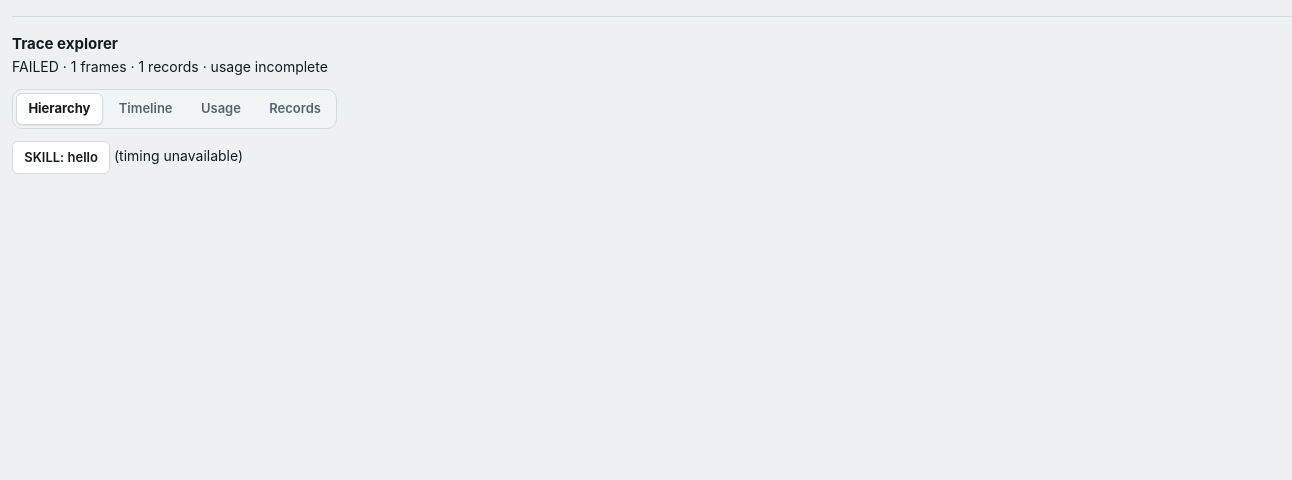
artifact expiration during a range clears stale content and reports the precise error
The image size is (1292, 480).
Expected: the text "FAILED · 1 frames · 1 records · usage incomplete" is shown, [12,58,328,74]
Click the tab "Records" at (295, 109), box [257,93,333,125]
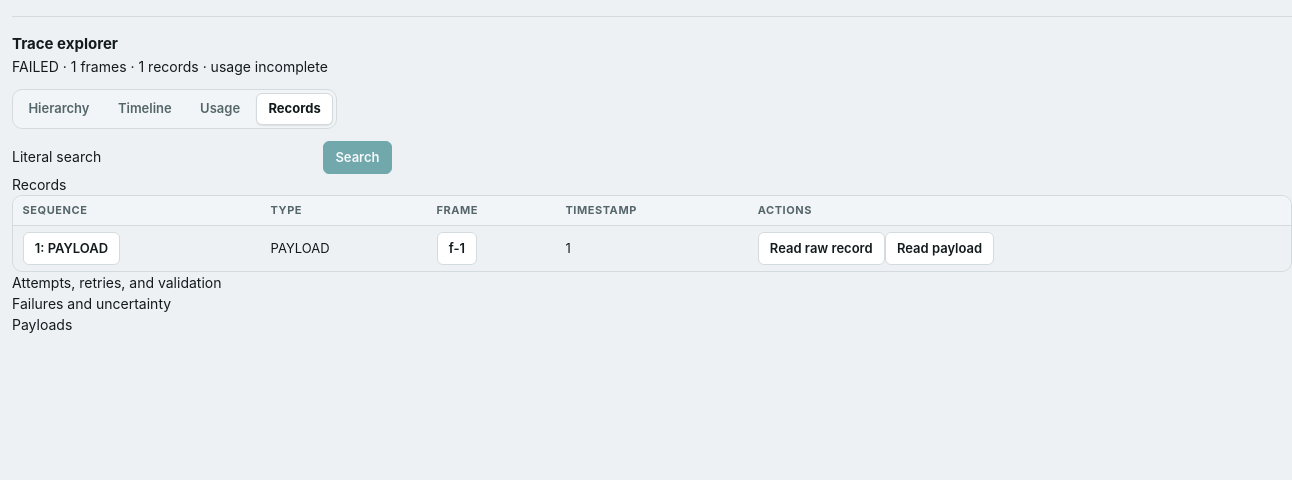
Now the button "1: PAYLOAD" is shown, box [23,232,120,264]
Click the button "Read payload" at (940, 248), box [885,232,994,264]
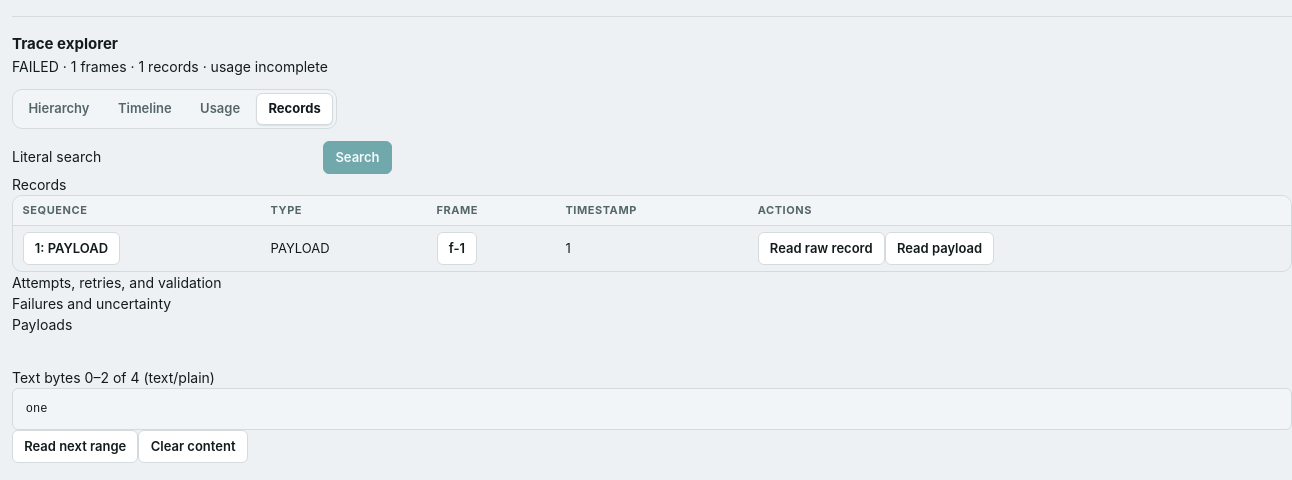
Now the text "one" is shown, box [12,388,1291,430]
Click the button "Read next range" at (75, 446), box [12,430,138,463]
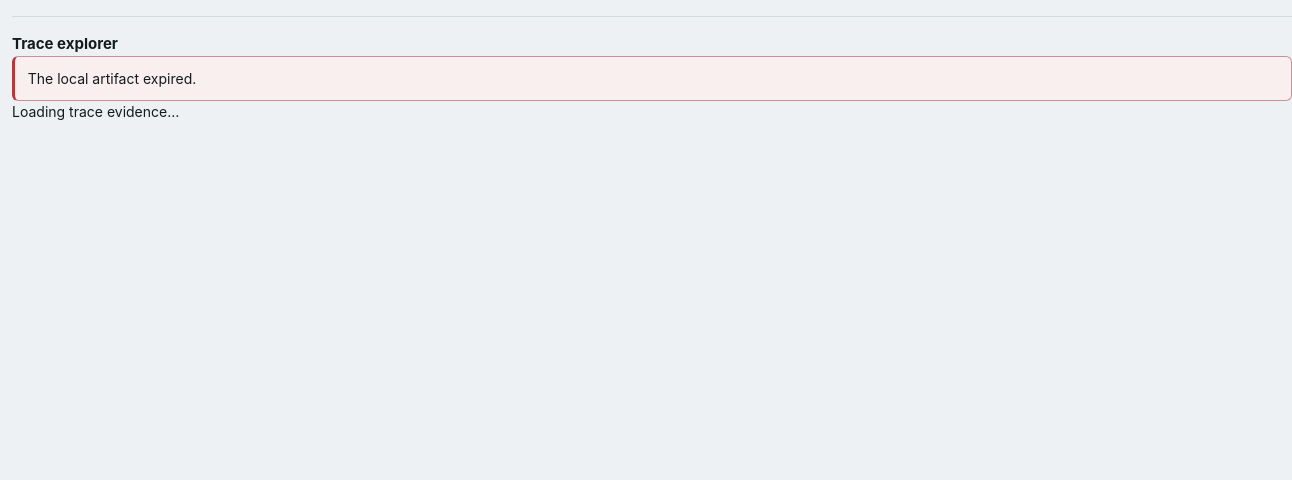
Now the text "The local artifact expired." is shown, box [12,56,1291,101]
Now the text "one" is gone
